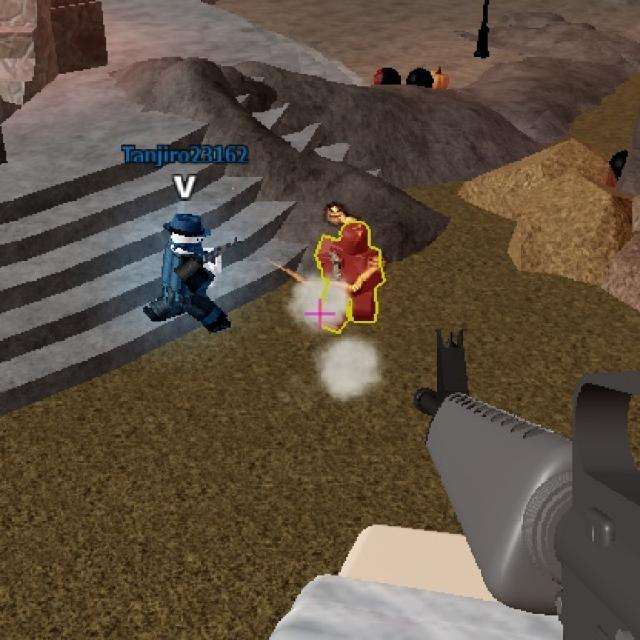player: (326, 214, 385, 334)
